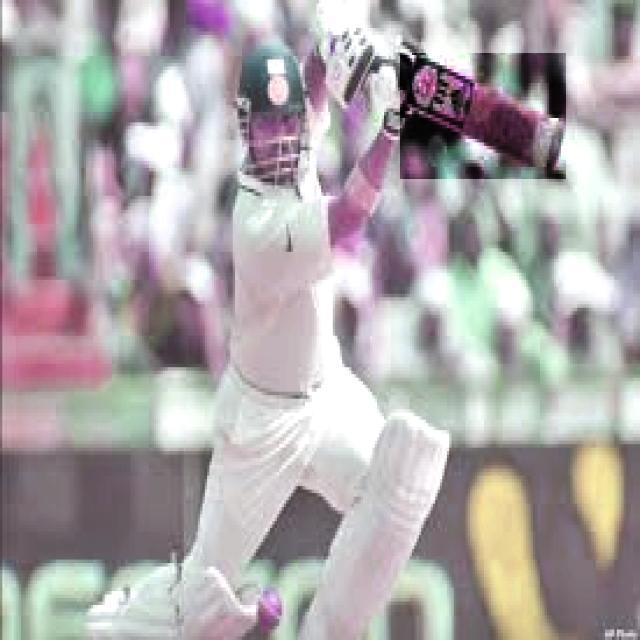bat: (403, 51, 565, 177)
toe: (546, 121, 562, 170)
